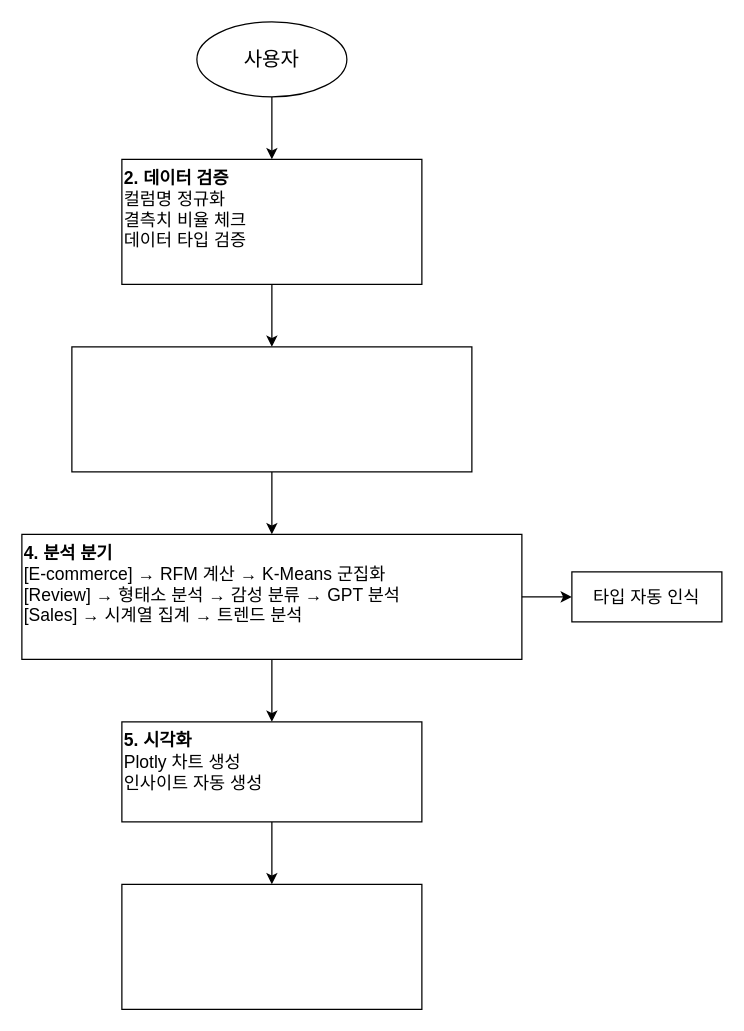
Some shapes in this 744 by 1031 pixel diagram are drawn without their labels. The box of each missing label's shape, as (x1, y1, x2, y2) in pixels:
3. 전처리 결측치 처리 (중앙값/최빈값) 이상치 처리 (IQR/Z-score) 파생변수 생성 (날짜 → 요일/계절): (71, 346, 472, 472)
6. 출력 대시보드 표시 HTML 리포트 CSV 다운로드: (121, 883, 422, 1009)
